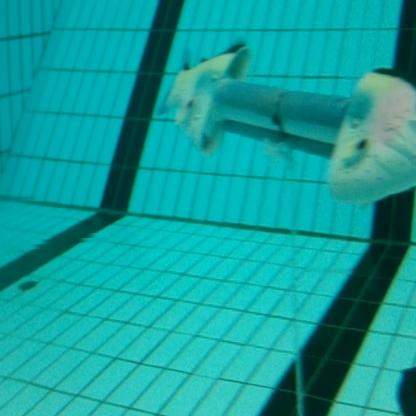tail: (157, 36, 257, 160)
